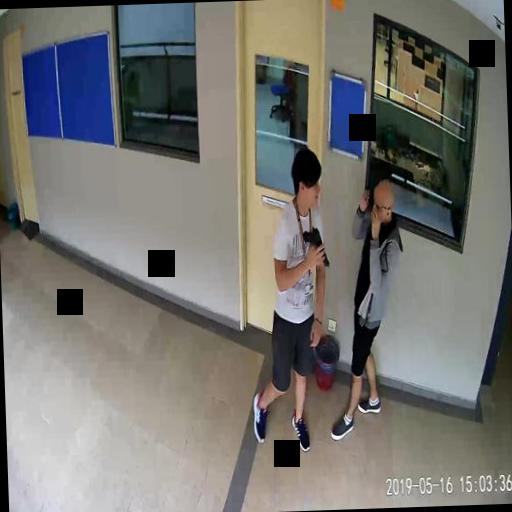Handgun: (301, 224, 327, 268)
